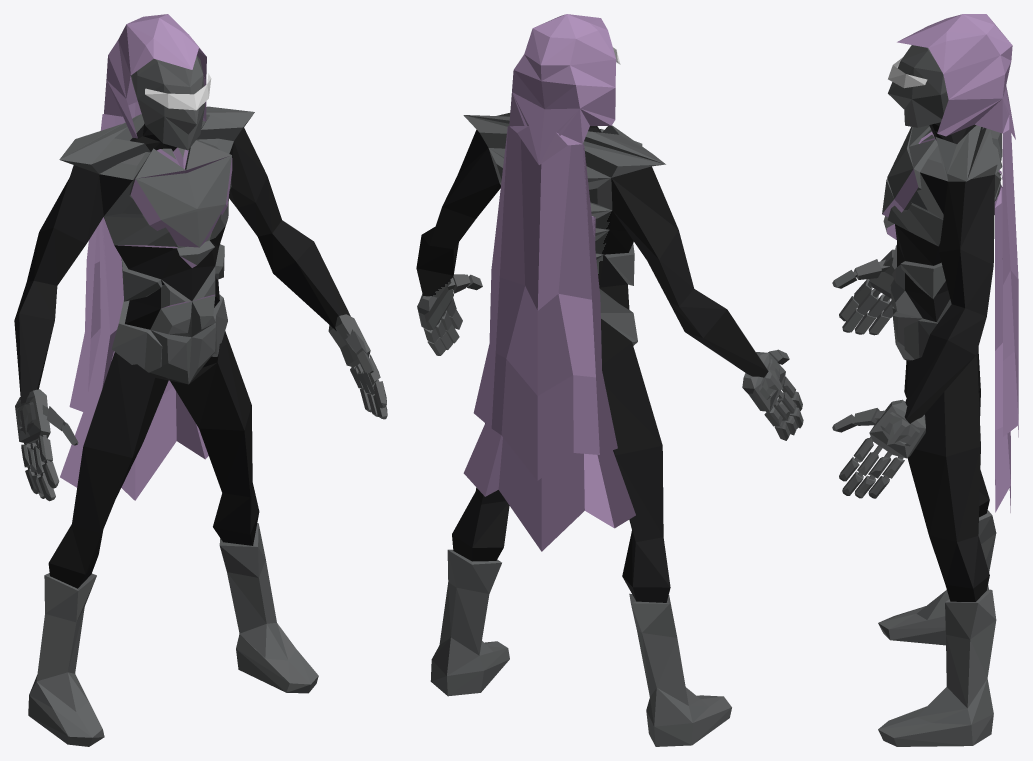
File: charackter.gltf
The picture shows the model from 3 angles, left to right: view 1: azimuth 30°, elevation 25°; view 2: azimuth 150°, elevation 25°; view 3: azimuth 270°, elevation 25°; orthographic projection. The views are drawn at different scales.
Parts seen in each view (by area): view 1: Body, LegR, Cape, LegL, ArmR, ArmL, Head, Brille; view 2: Cape, LegR, ArmR, LegL, Body, ArmL; view 3: LegL, ArmL, Cape, Body, LegR, ArmR, Head, Brille.
Boxes of the visible parts, x1,y1,x2,y2 form: Body: (59,106,254,384); LegR: (28,352,216,746); Cape: (60,14,208,500); LegL: (169,331,318,693); ArmR: (14,165,132,501); ArmL: (229,128,387,419); Head: (131,55,204,150); Brille: (145,73,211,110); Cape: (463,14,635,551); LegR: (601,319,731,746); ArmR: (611,166,803,440); LegL: (430,423,509,696); Body: (463,113,665,345); ArmL: (416,129,500,355); LegL: (878,347,996,746); ArmL: (832,172,994,498); Cape: (897,14,1018,512); Body: (882,122,1002,360); LegR: (878,349,996,645); ArmR: (832,249,894,335); Head: (888,45,948,127); Brille: (888,57,927,88).
Bounding box in the file's own units: 3.16 × 5.93 × 1.48.
2 materials, 2 textured.
